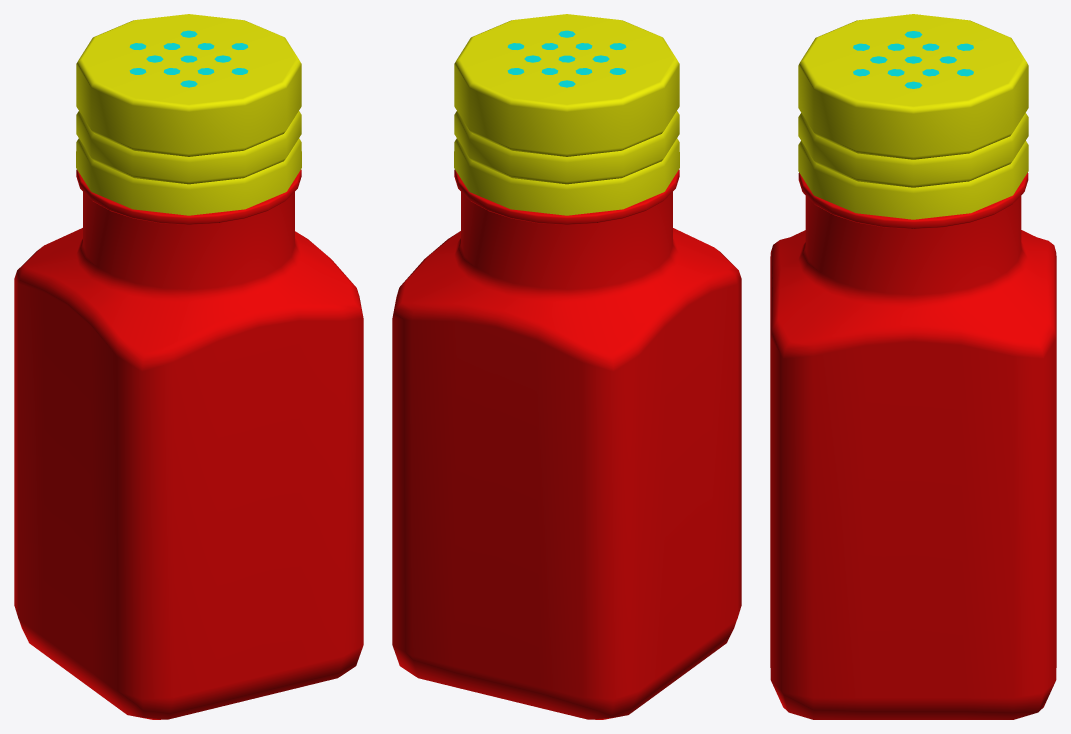
Rendered from RoboTHOR_salt_pepper_shakers_grp.fbx.
The picture shows the model from 3 angles, left to right: view 1: azimuth 30°, elevation 25°; view 2: azimuth 150°, elevation 25°; view 3: azimuth 270°, elevation 25°; orthographic projection.
Visible parts, largest first — view 1: robothor_salt_pepper_shaker_bnyd; view 2: robothor_salt_pepper_shaker_bnyd; view 3: robothor_salt_pepper_shaker_bnyd.
Part boxes in pixels (<box>): robothor_salt_pepper_shaker_bnyd: <box>14,14,363,719</box>; robothor_salt_pepper_shaker_bnyd: <box>392,14,741,719</box>; robothor_salt_pepper_shaker_bnyd: <box>770,14,1056,719</box>.
Size of the model in its own units: 4 by 9.51 by 4.
